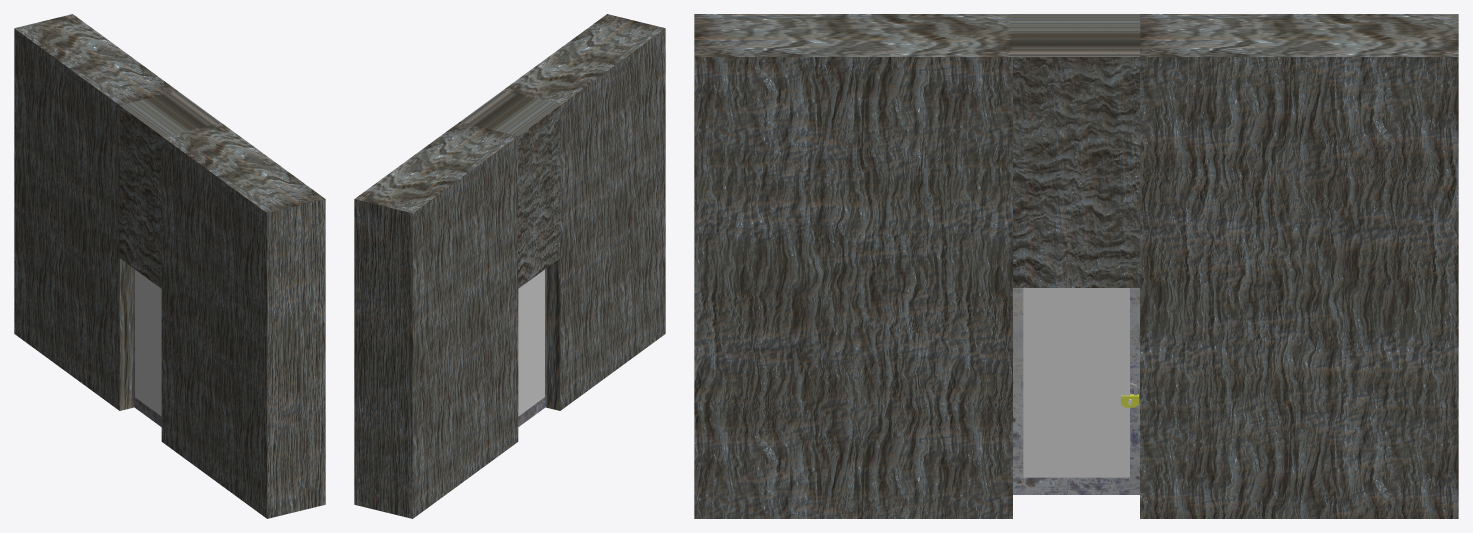
File: pintu-dinding.glb
The picture shows the model from 3 angles, left to right: view 1: azimuth 30°, elevation 25°; view 2: azimuth 150°, elevation 25°; view 3: azimuth 270°, elevation 25°; orthographic projection. The views are drawn at different scales.
Parts seen in each view (by area): view 1: Dinding.001, boolean jaring-jaring, pintu; view 2: Dinding.001, boolean jaring-jaring, pintu; view 3: Dinding.001, boolean jaring-jaring, Cube.004.
Part boxes in pixels (x1,y1,x2,y2): Dinding.001: (14, 14, 325, 518); boolean jaring-jaring: (135, 269, 161, 416); pintu: (133, 268, 161, 426); Dinding.001: (354, 14, 665, 518); boolean jaring-jaring: (518, 269, 544, 416); pintu: (518, 268, 546, 426); Dinding.001: (694, 14, 1458, 518); boolean jaring-jaring: (1023, 288, 1129, 477); Cube.004: (1013, 288, 1139, 494).
Size of the model in its own units: 0.4 by 2 by 3.
Materials: 18 (7 with a texture image).
